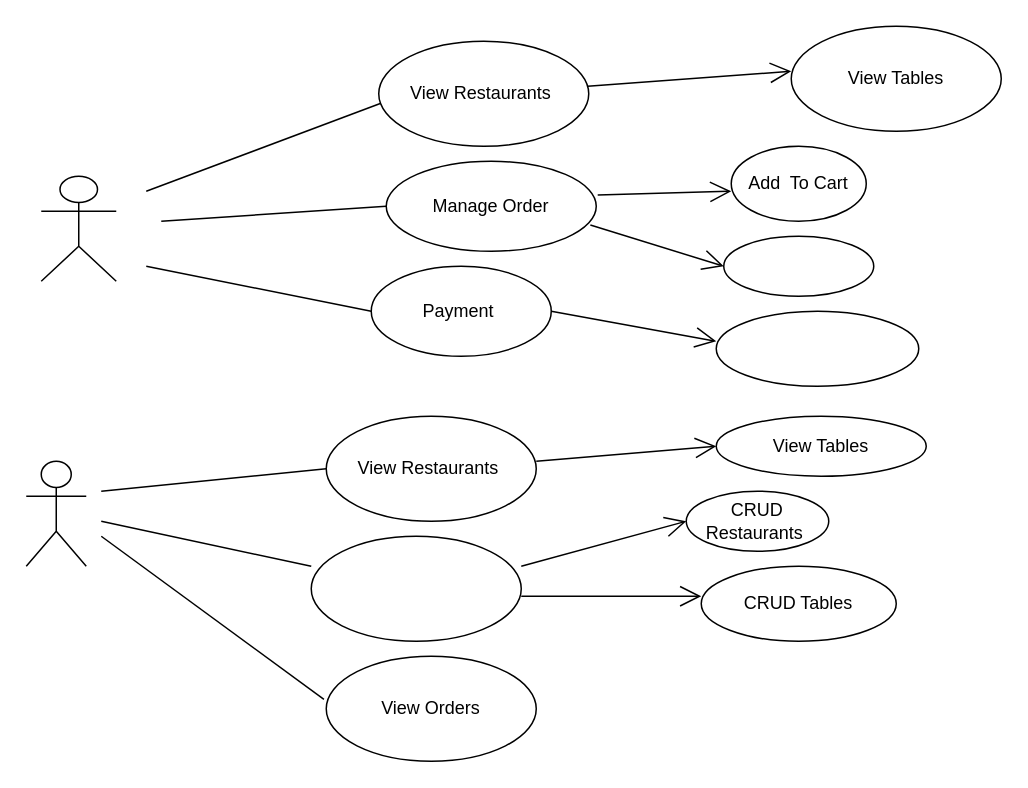
This 1028x788 diagram has some shape labels left out. Here are the shapes that lost their labels. From the top down, the box of each, then its label:
(40, 175, 116, 281): Client
(722, 235, 874, 296): Remove From Cart
(715, 310, 919, 386): Add Cart Details
(25, 460, 86, 566): Admin
(310, 535, 521, 641): Manage Restaurants
